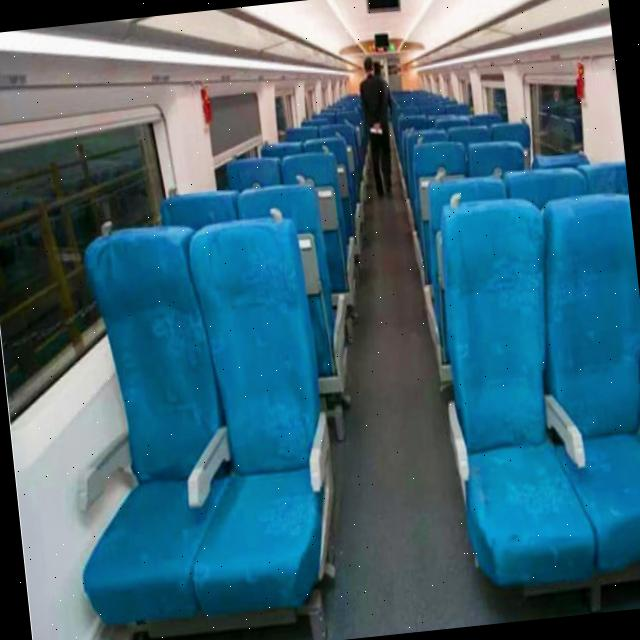empty-seat-frontal: (154, 212, 347, 622), (43, 223, 234, 632), (422, 190, 600, 598), (530, 187, 640, 587)
